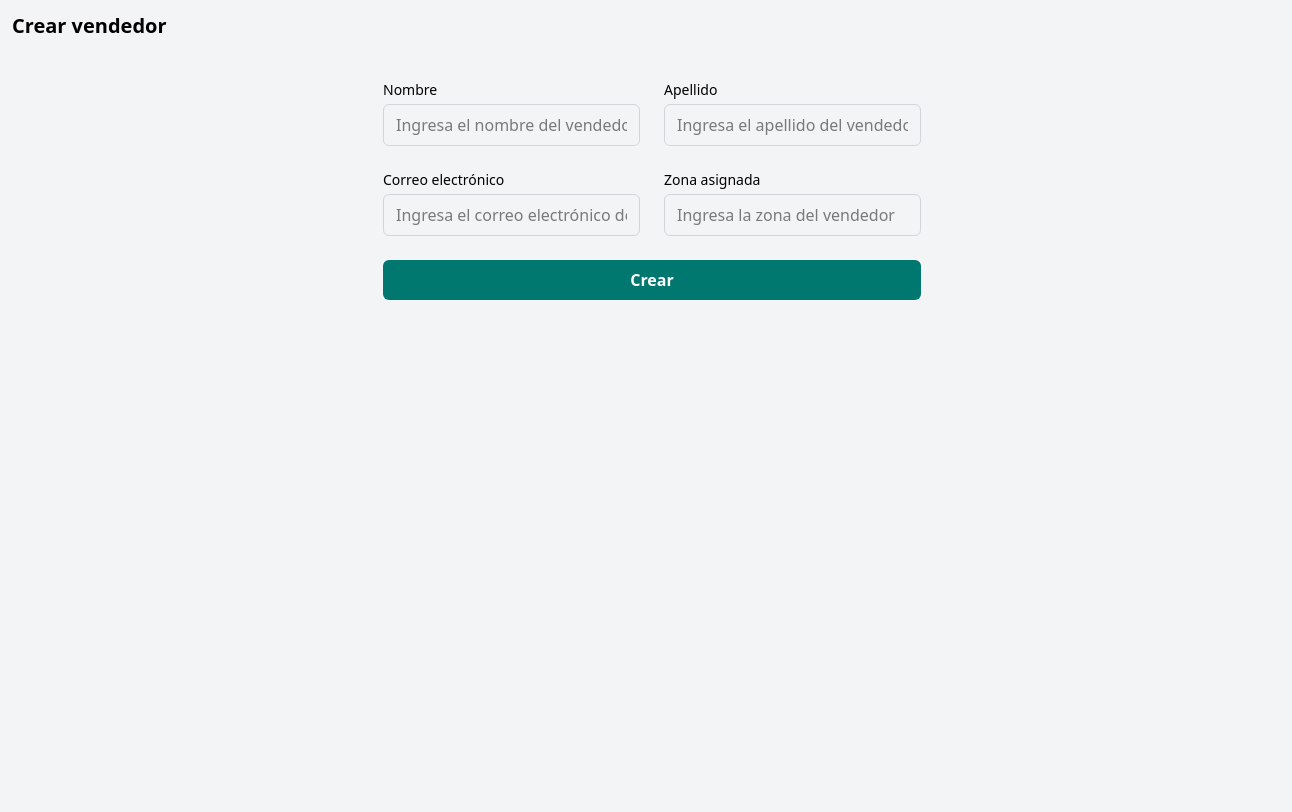
CreateSeller Page › cuando ocurre un error en la API › debería mostrar una notificación de error
Type "Carlos" into the field with placeholder "Ingresa el nombre del vendedor" at (512, 125), box [383, 104, 640, 146]
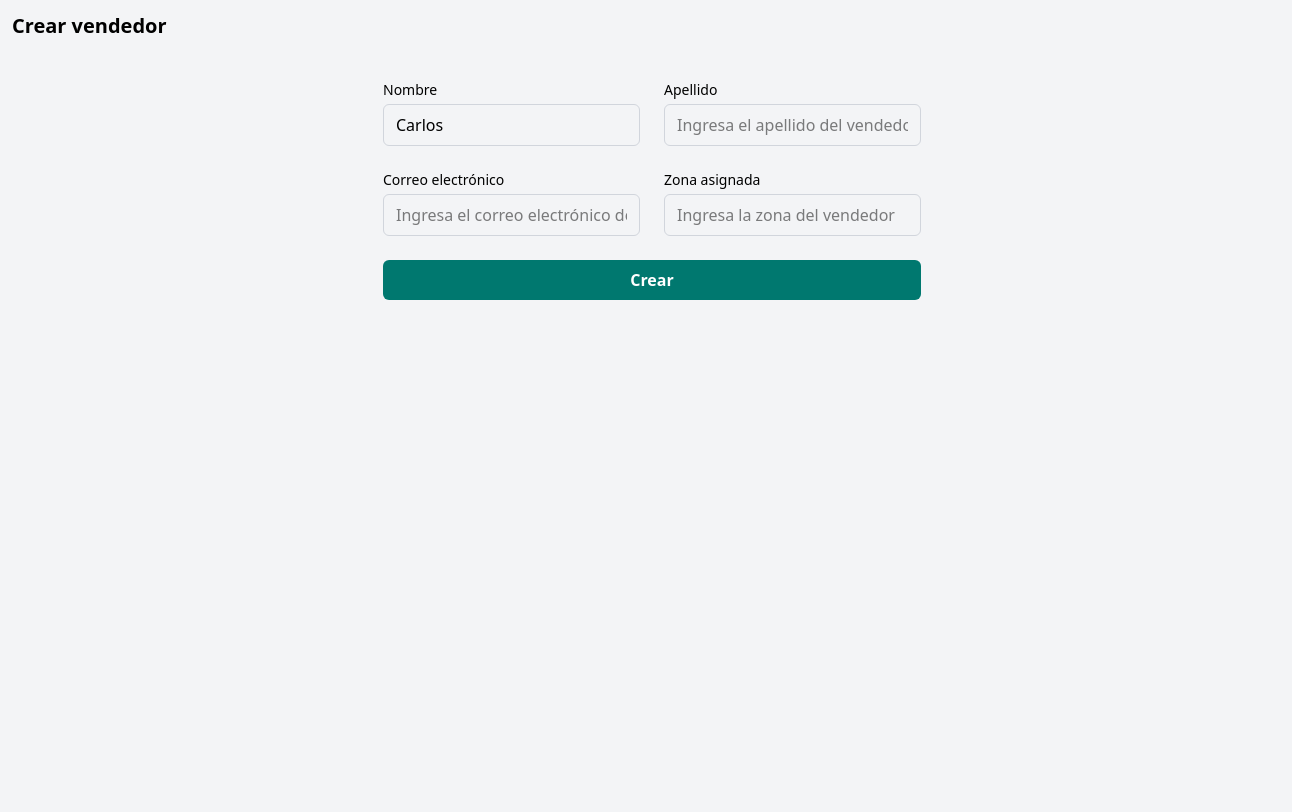
Type "López" into the field with placeholder "Ingresa el apellido del vendedor" at (792, 125), box [664, 104, 921, 146]
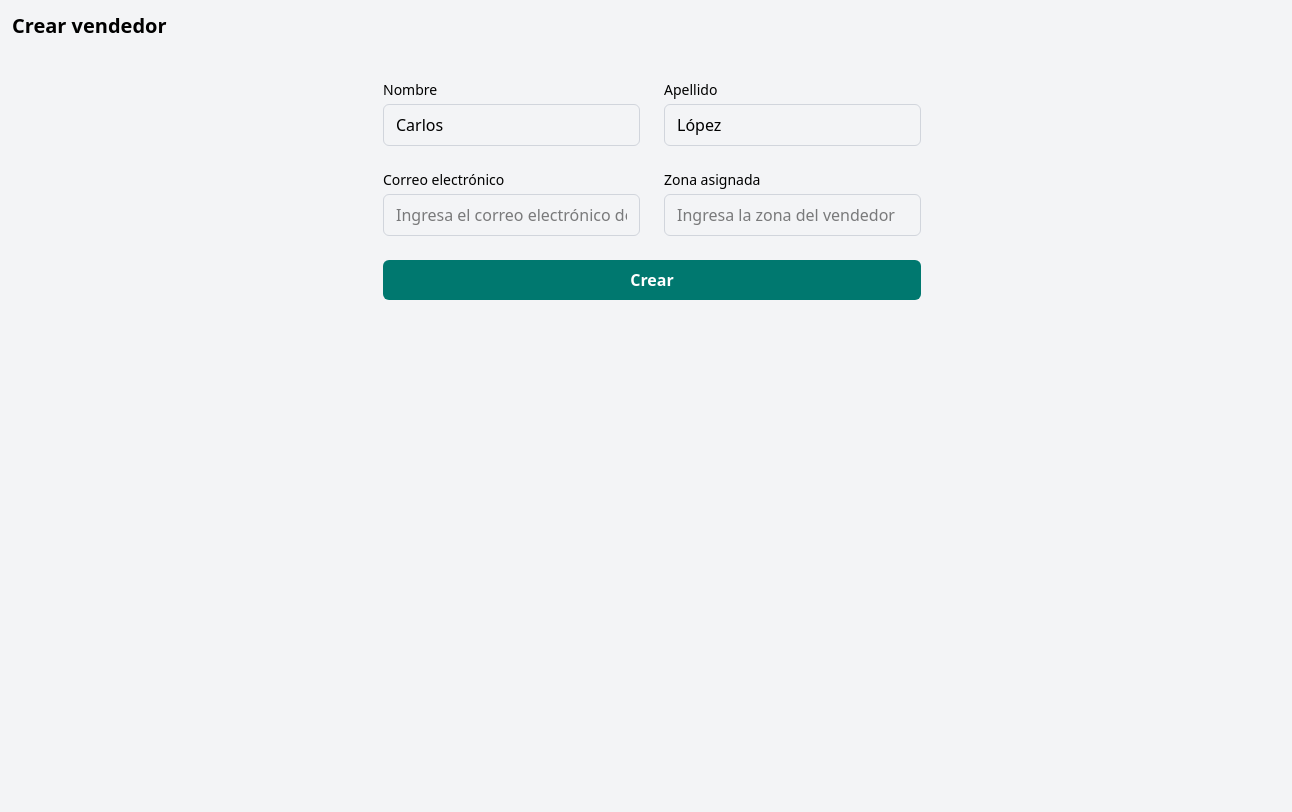
Type "carlos@example.com" into the field with placeholder "Ingresa el correo electrónico del vendedor" at (512, 215), box [383, 194, 640, 236]
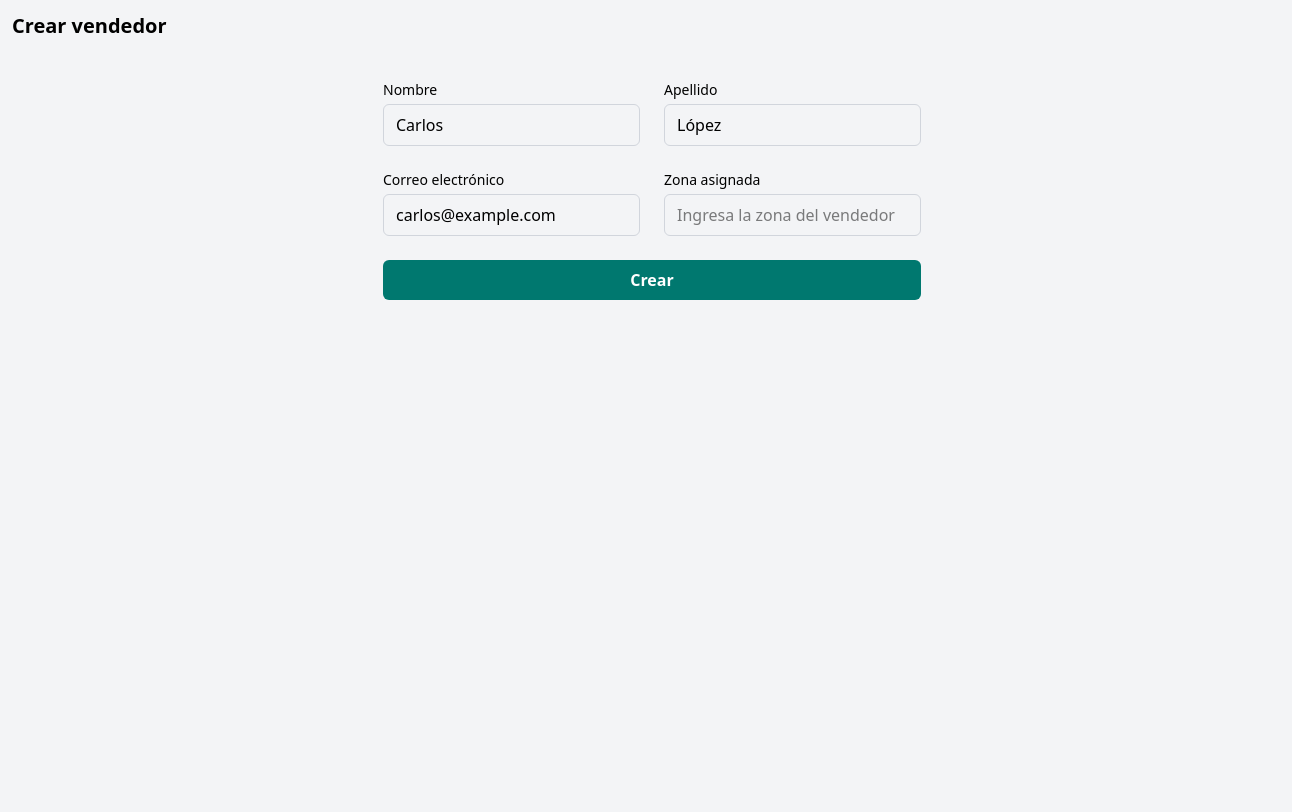
Type "Centro" into the field with placeholder "Ingresa la zona del vendedor" at (792, 215), box [664, 194, 921, 236]
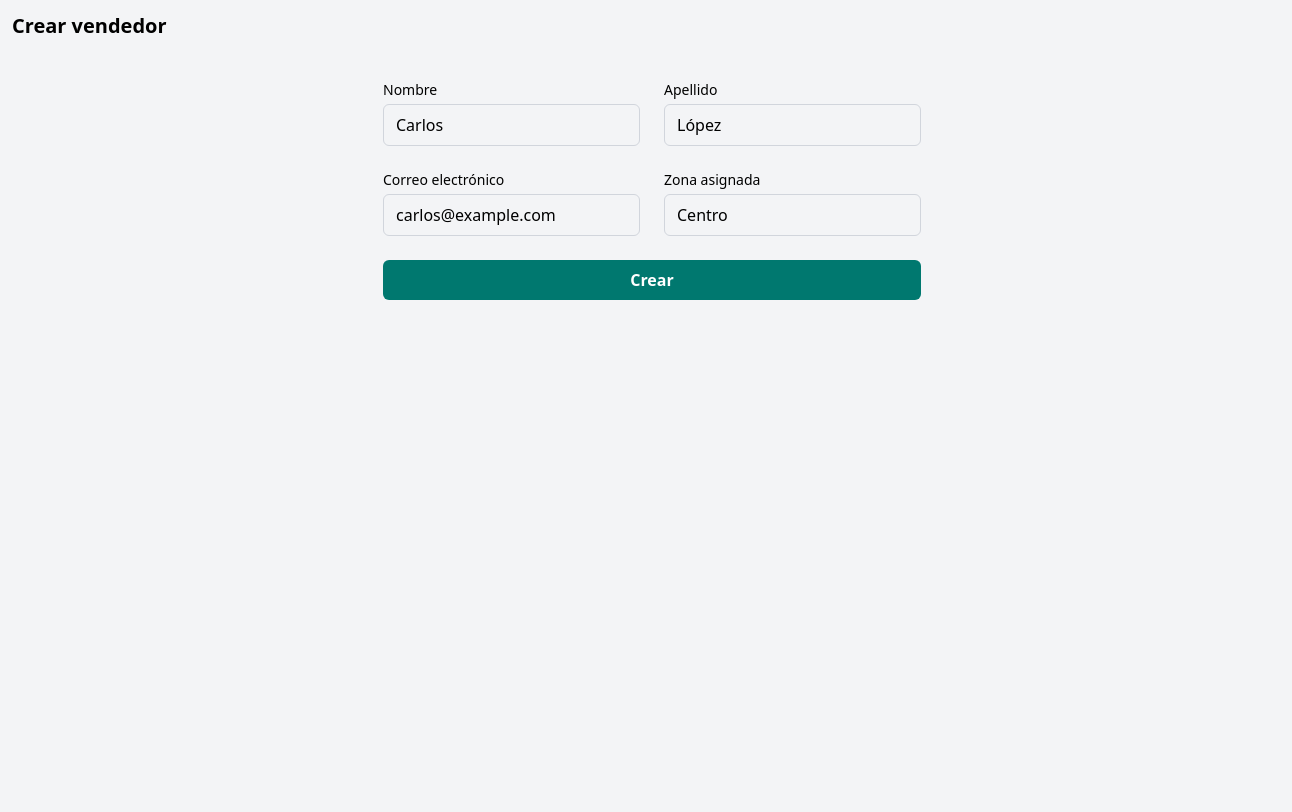
Click the button "Crear" at (652, 280), box [383, 260, 921, 300]
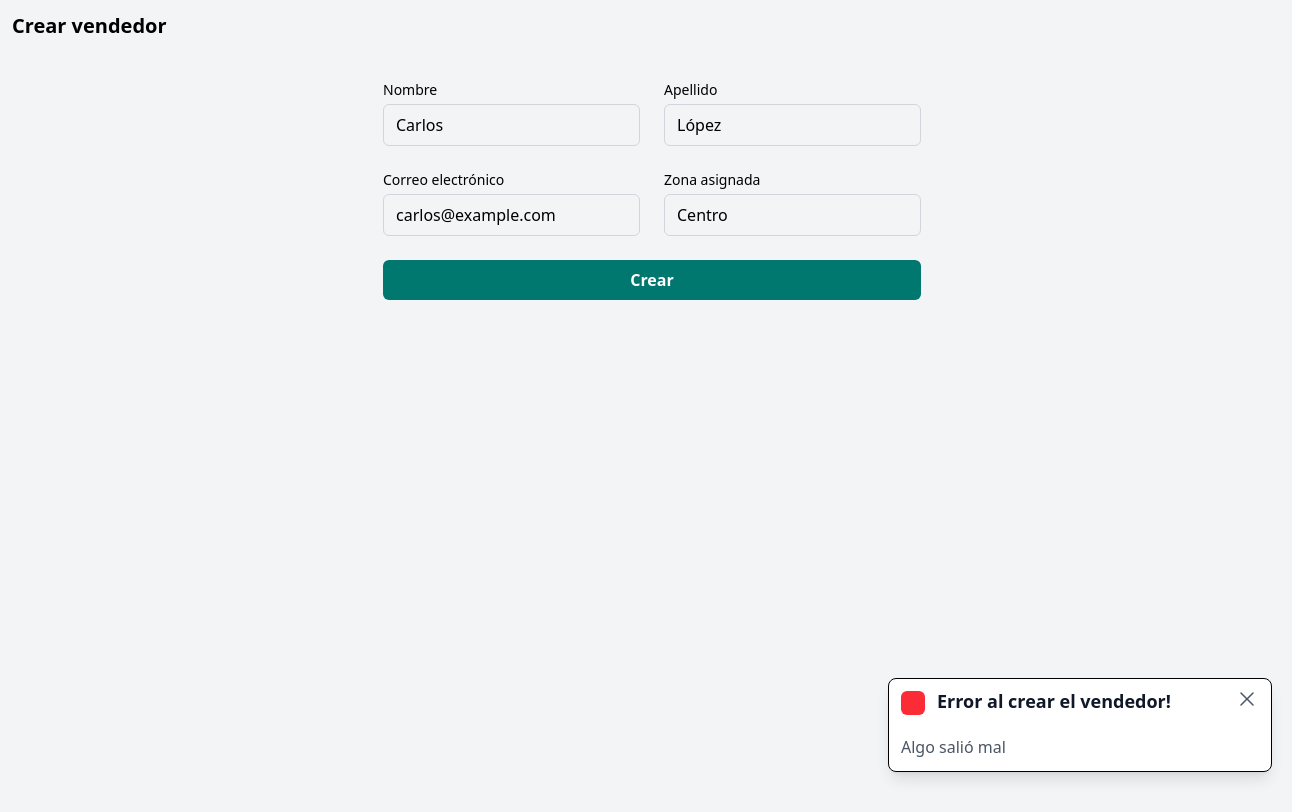
expect the heading "Error al crear el vendedor!" is shown: met, box [925, 687, 1171, 715]
expect the text "Algo salió mal" is shown: met, box [901, 735, 1006, 759]
